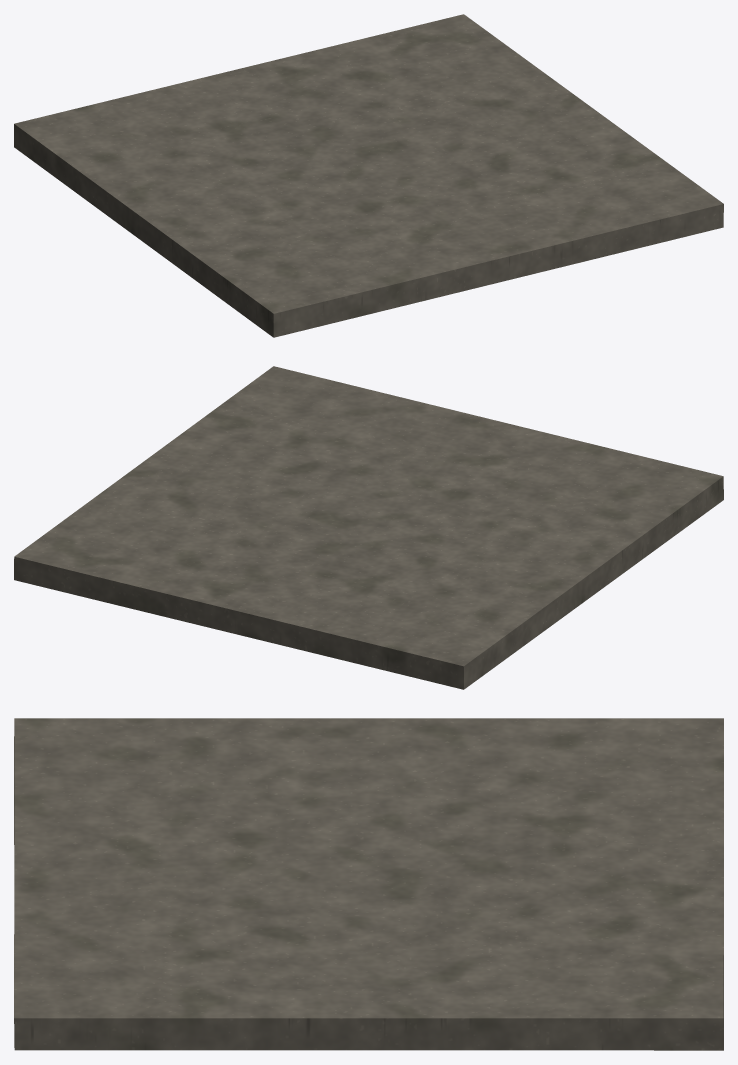
File: bunker_ceiling.glb
The picture shows the model from 3 angles, top to bottom: view 1: azimuth 30°, elevation 25°; view 2: azimuth 150°, elevation 25°; view 3: azimuth 270°, elevation 25°; orthographic projection. The views are drawn at different scales.
Visible parts, largest first — view 1: BunkerCeiling; view 2: BunkerCeiling; view 3: BunkerCeiling.
Boxes of the visible parts, x1,y1,x2,y2 form: BunkerCeiling: (14, 14, 723, 337); BunkerCeiling: (14, 366, 723, 689); BunkerCeiling: (14, 718, 723, 1050).
Size of the model in its own units: 12.01 by 0.6248 by 12.01.
Materials: 1 (1 with a texture image).
